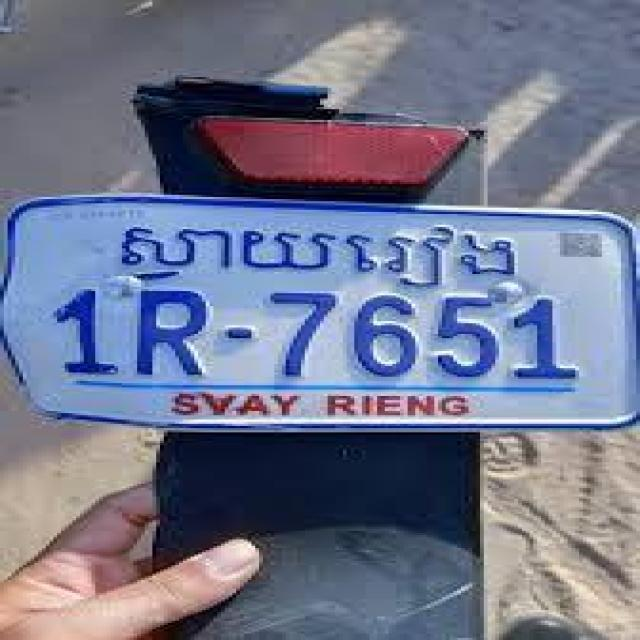Svay_Rieng: (118, 223, 529, 286)
